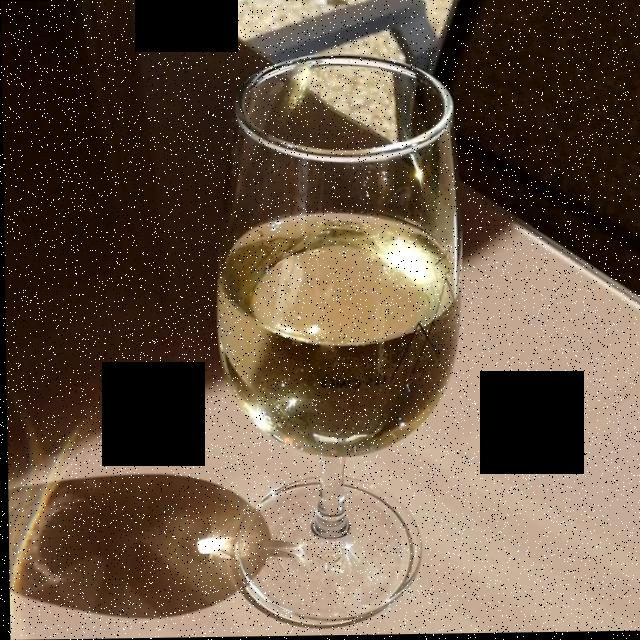wine-white: (214, 214, 457, 453)
